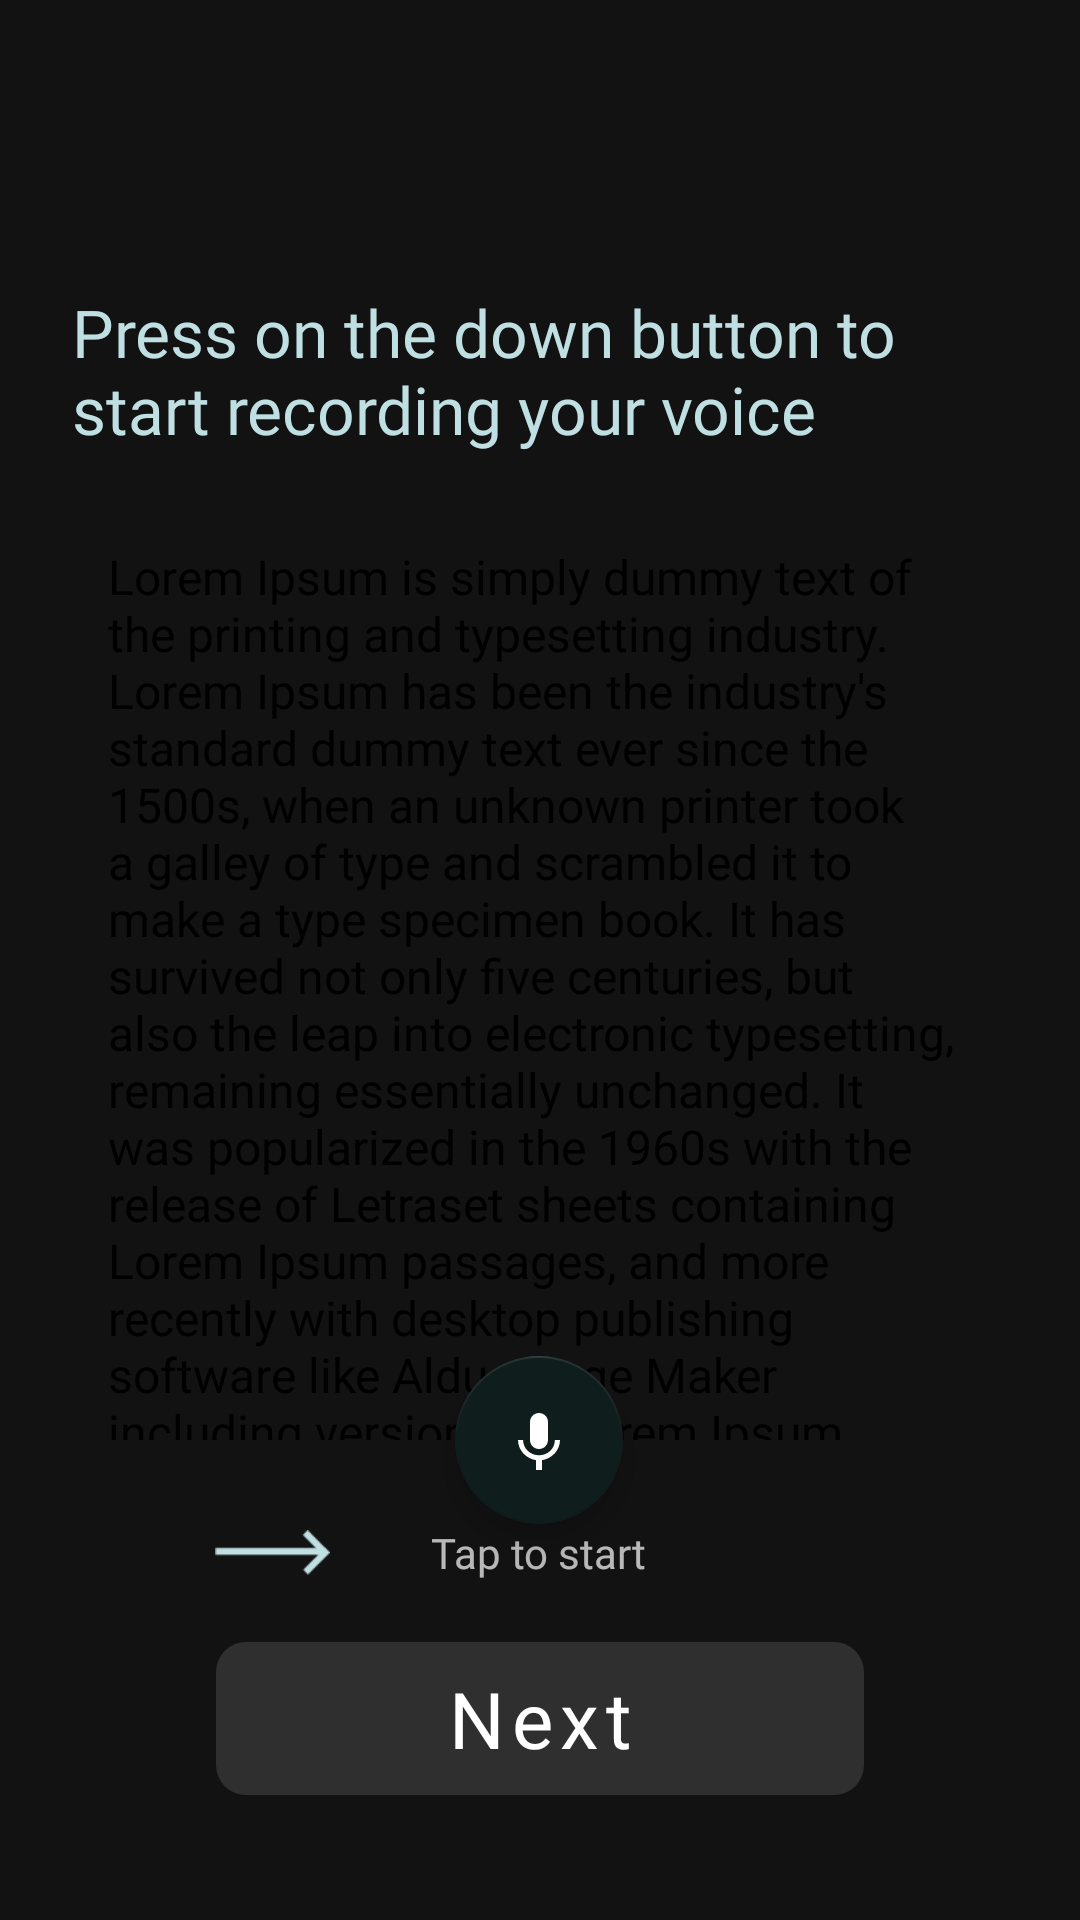

Icon click points for this 1080*1920 phone screenshot, format (x=x, y=y):
keyboard voice: (x=539, y=1440)
